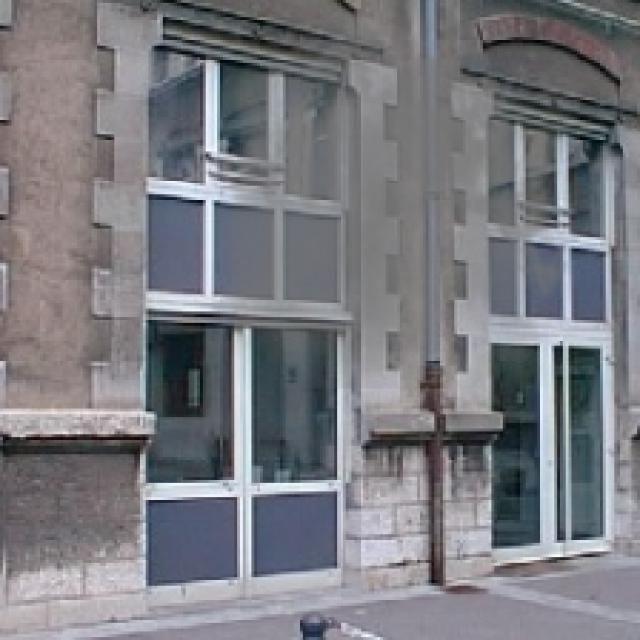smoke: (211, 0, 580, 389)
